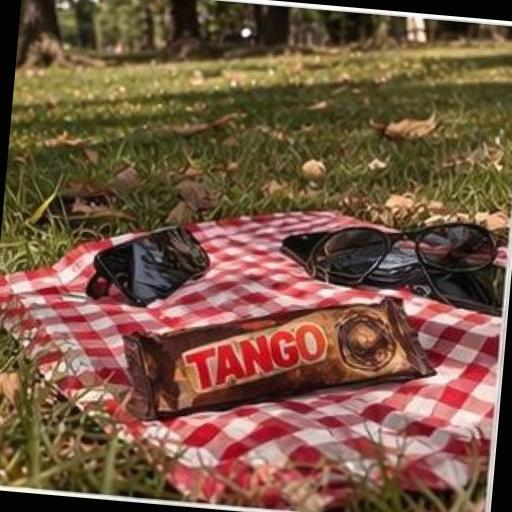tango: (100, 266, 466, 484)
